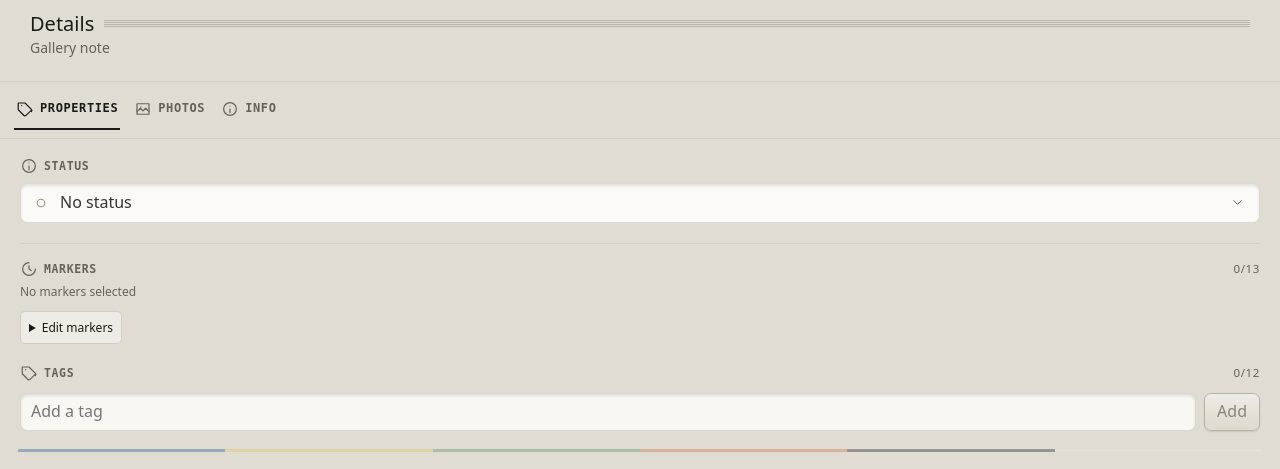
Test: note photo gallery › shows the empty state when the note has no images
Click the tab "Photos": [170, 110] box [132,90,207,130]
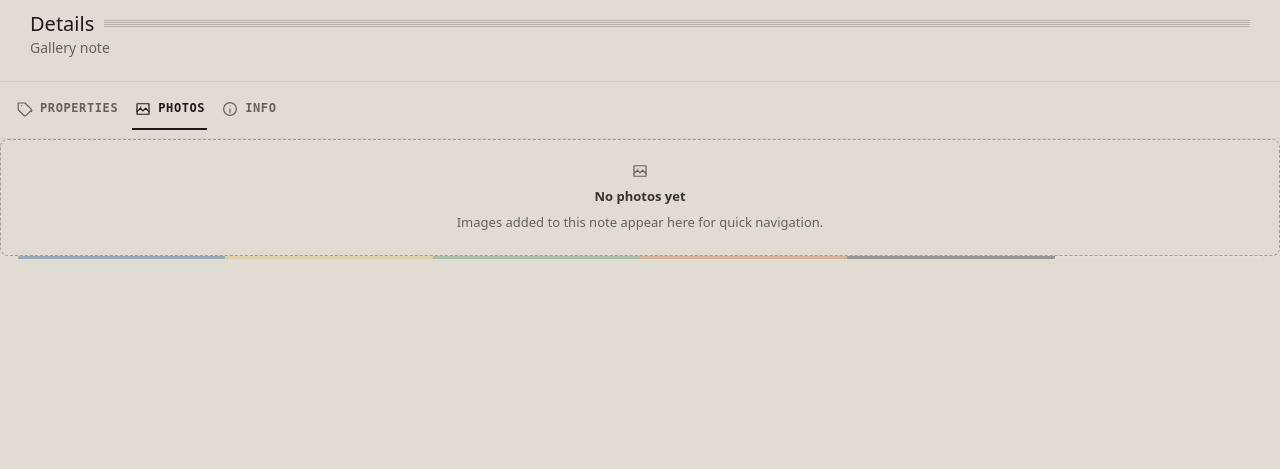
Expected: the element with class "sn-note-gallery__empty" shows "No photos yet", [594,186,686,204]
